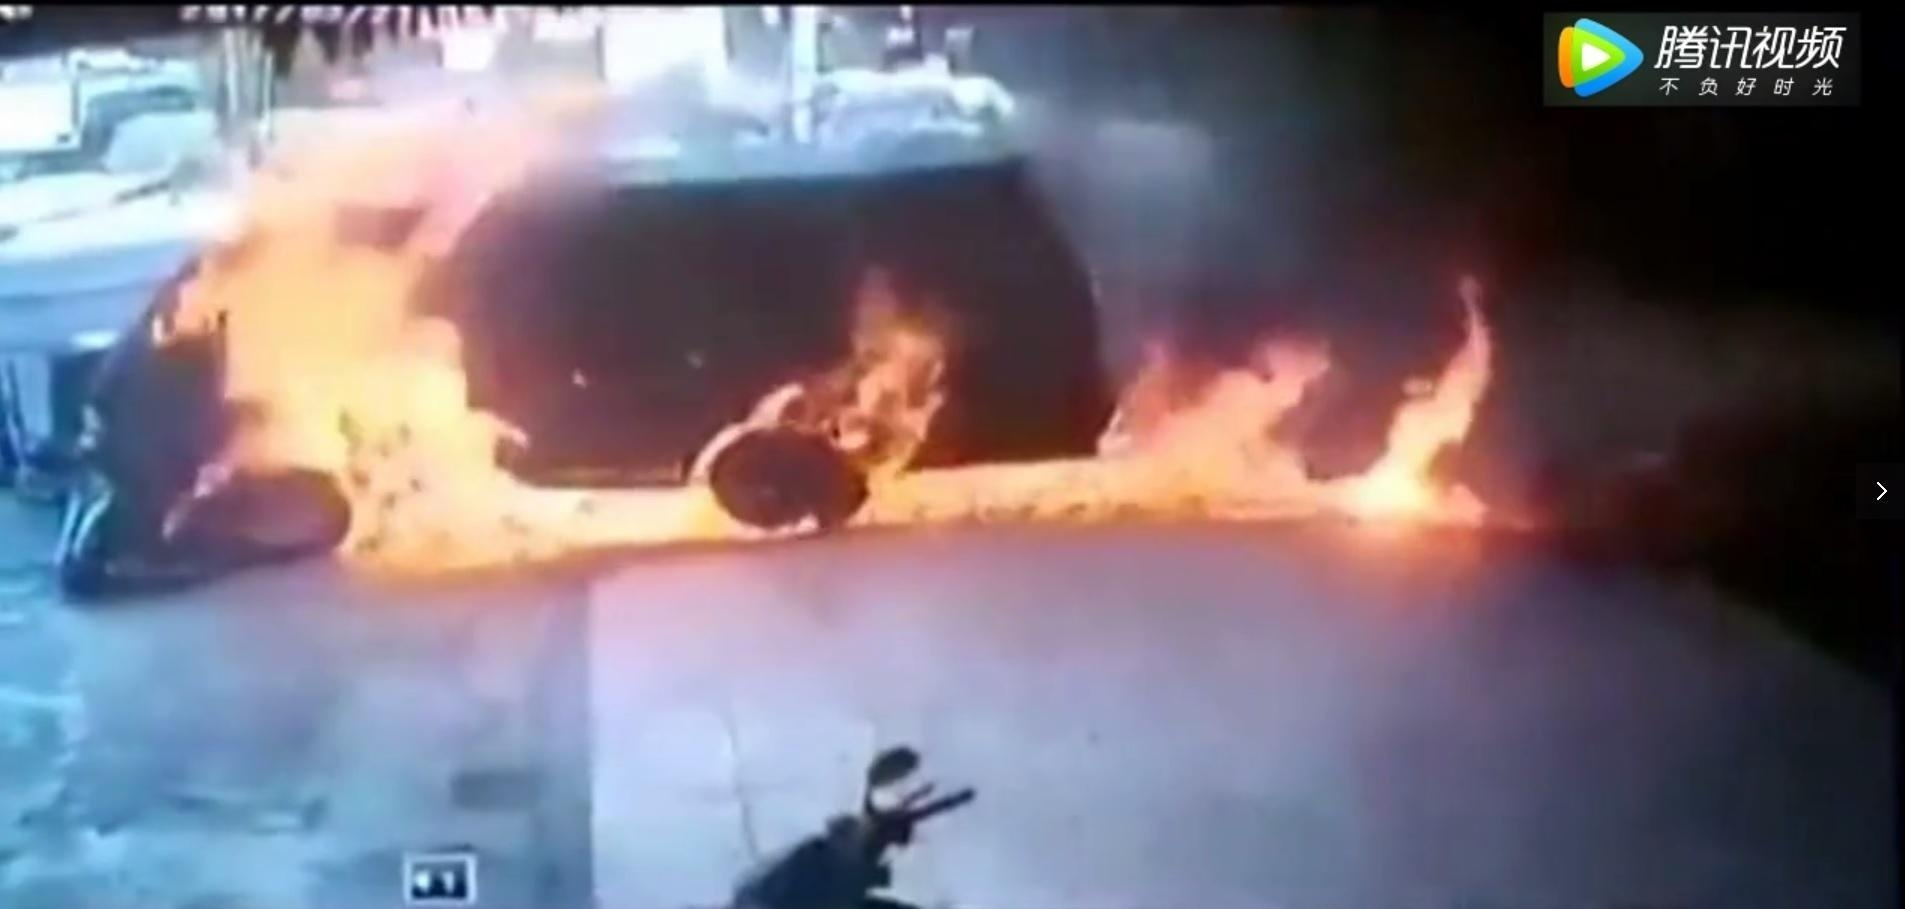fire: (108, 64, 1551, 554)
